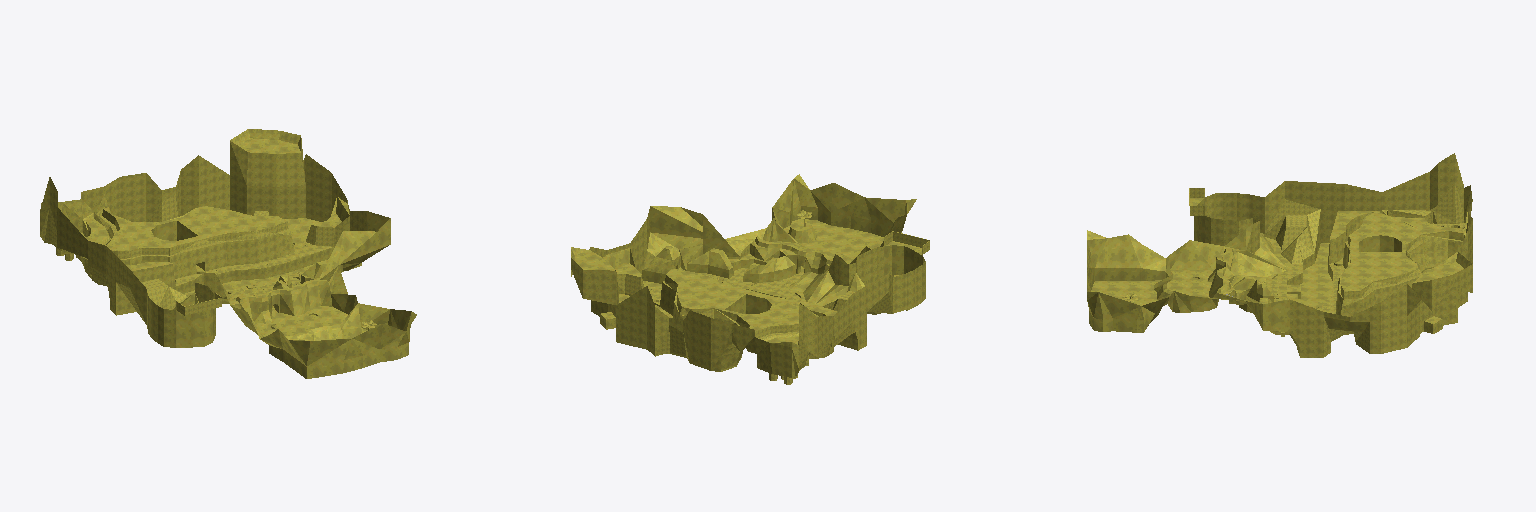
The picture shows the model from 3 angles: view 1: azimuth 30°, elevation 25°; view 2: azimuth 150°, elevation 25°; view 3: azimuth 270°, elevation 25°; orthographic projection.
Visible parts, largest first — view 1: Mesh195_Model; view 2: Mesh195_Model; view 3: Mesh195_Model.
Boxes of the visible parts, x1,y1,x2,y2 form: Mesh195_Model: [40, 129, 416, 378]; Mesh195_Model: [571, 174, 929, 384]; Mesh195_Model: [1087, 153, 1472, 357].
Size of the model in its own units: 8.49 by 2.92 by 11.23.
Materials: 19 (1 with a texture image).